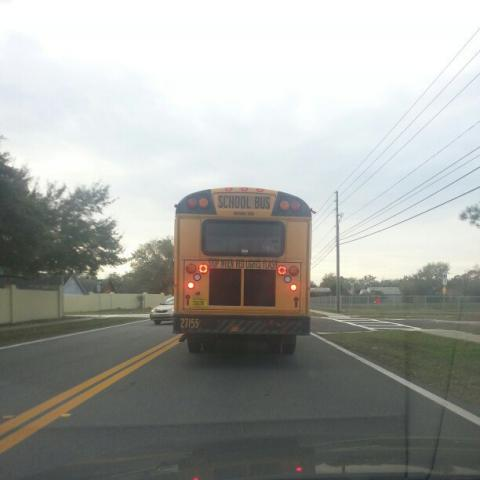bus: (168, 189, 311, 360)
car: (150, 298, 175, 324)
